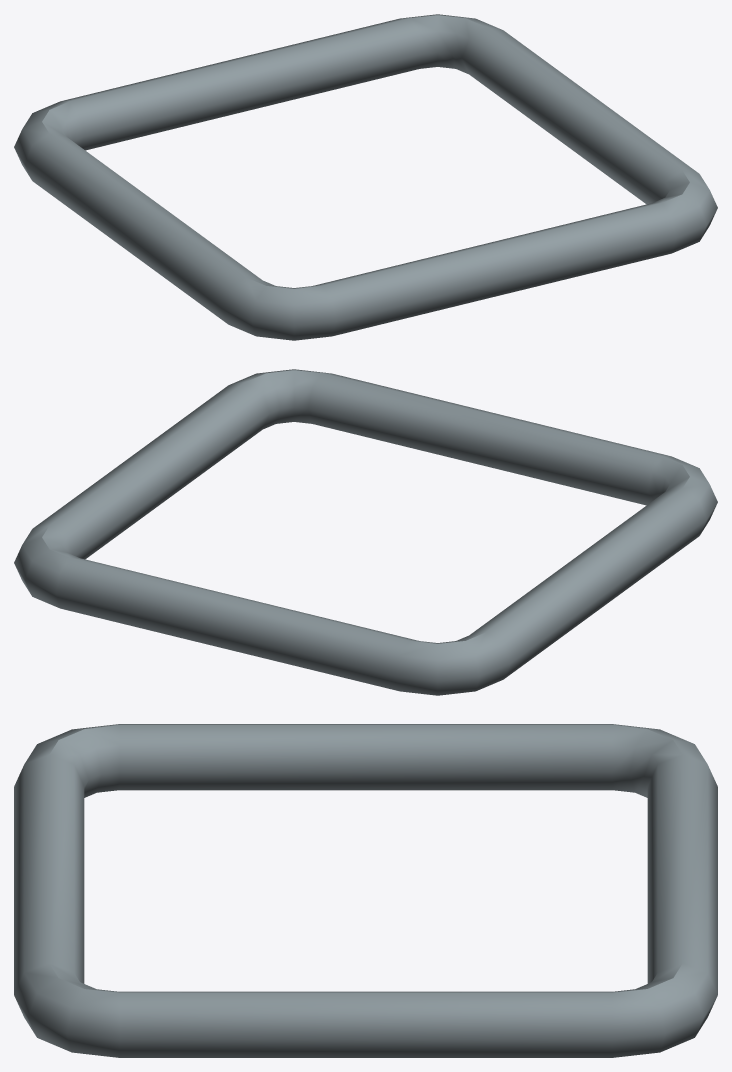
Rendered from structure-a.glb.
3 renders of one model, top to bottom at view 1: azimuth 30°, elevation 25°; view 2: azimuth 150°, elevation 25°; view 3: azimuth 270°, elevation 25°, orthographic. The views are drawn at different scales.
Parts seen in each view (by area): view 1: structure_A; view 2: structure_A; view 3: structure_A.
Boxes of the visible parts, x1,y1,x2,y2 form: structure_A: (14, 14, 717, 340); structure_A: (14, 369, 717, 695); structure_A: (14, 724, 717, 1057).
Bounding box in the file's own units: 2 × 0.2 × 2.
1 material, 1 textured.
